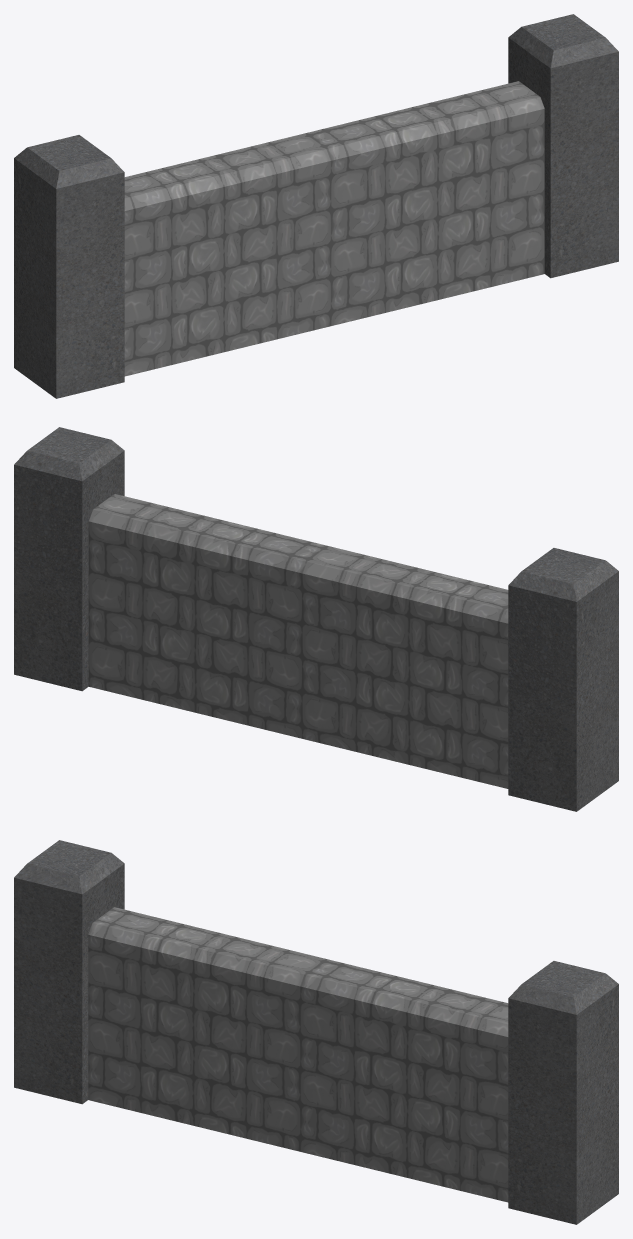
The model's file is brickWall.FBX.
3 views of the same model, one above another, from view 1: azimuth 30°, elevation 25°; view 2: azimuth 150°, elevation 25°; view 3: azimuth 330°, elevation 25° (orthographic).
Visible parts, largest first — view 1: wall; view 2: wall; view 3: wall.
Part boxes in pixels (left/top/right/bottom): wall: left=14, top=14, right=618, bottom=398; wall: left=14, top=427, right=618, bottom=811; wall: left=14, top=840, right=618, bottom=1224.
Bounding box in the file's own units: 147 × 19.1 × 55.38.
1 material, 1 textured.
